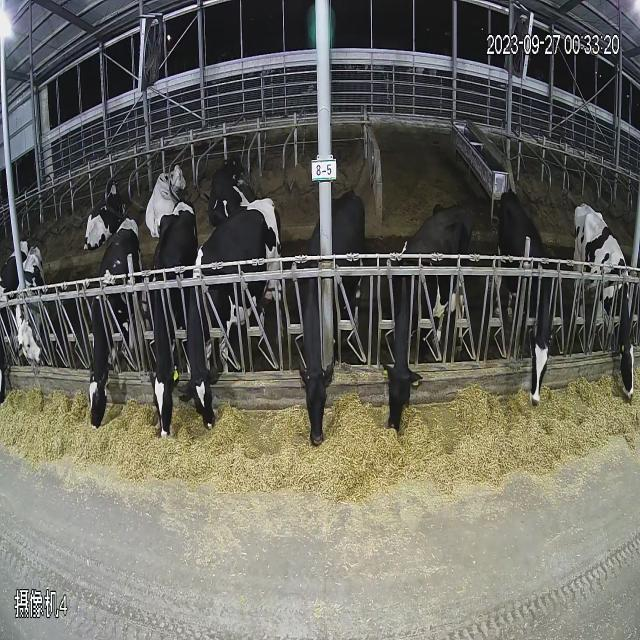feeding: (384, 178, 484, 480), (188, 197, 282, 471), (488, 169, 575, 446), (293, 192, 373, 480), (576, 131, 640, 440), (78, 198, 144, 450), (150, 200, 186, 444), (2, 181, 18, 425)
lying down: (199, 105, 263, 228), (72, 119, 128, 243), (140, 104, 189, 236)
